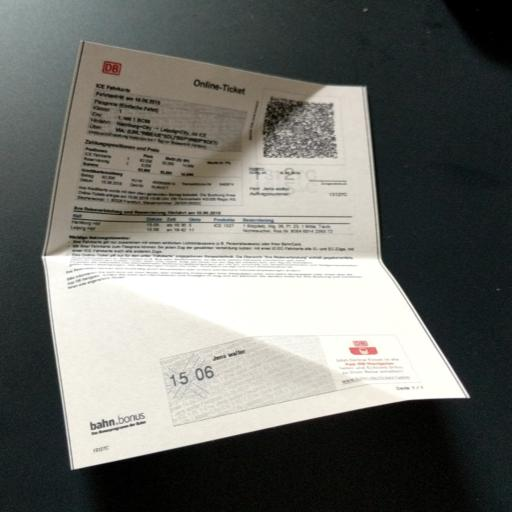paper: (17, 11, 512, 512)
